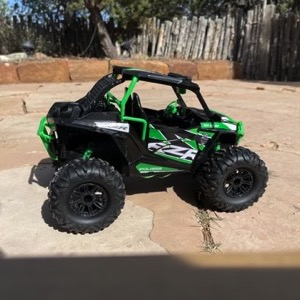polaris: (38, 64, 270, 236)
